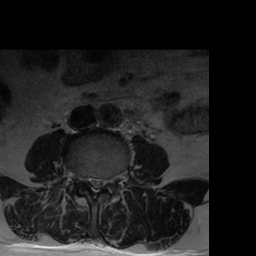CCS_normal: (92, 169, 99, 206)
LFS_normal: (106, 169, 113, 192)
LLS_normal: (99, 169, 106, 195)
RFS_stenosis: (79, 167, 85, 189)
RLS_normal: (85, 169, 92, 191)
